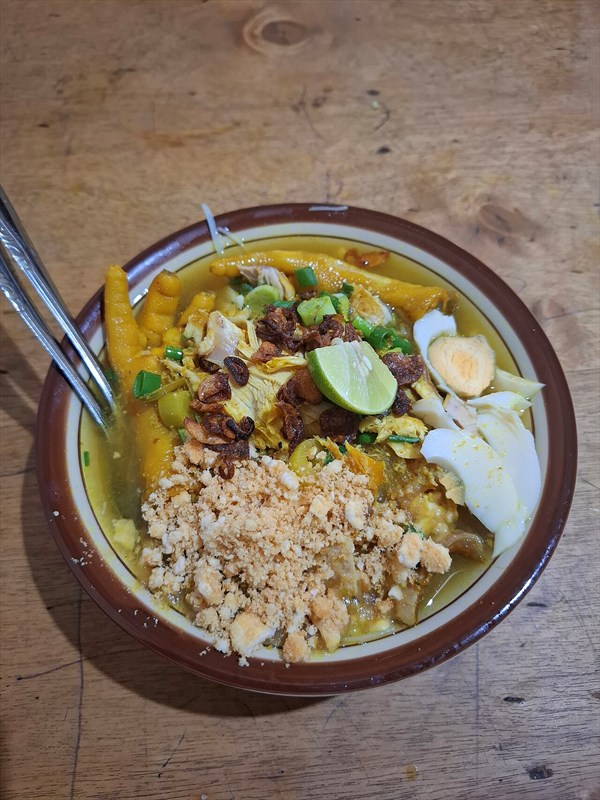Soto Ayam: (50, 205, 516, 661)
